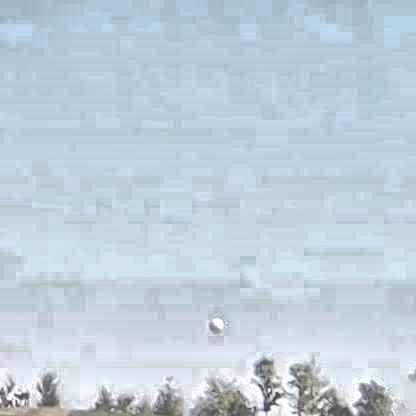golfball: (206, 314, 221, 331)
